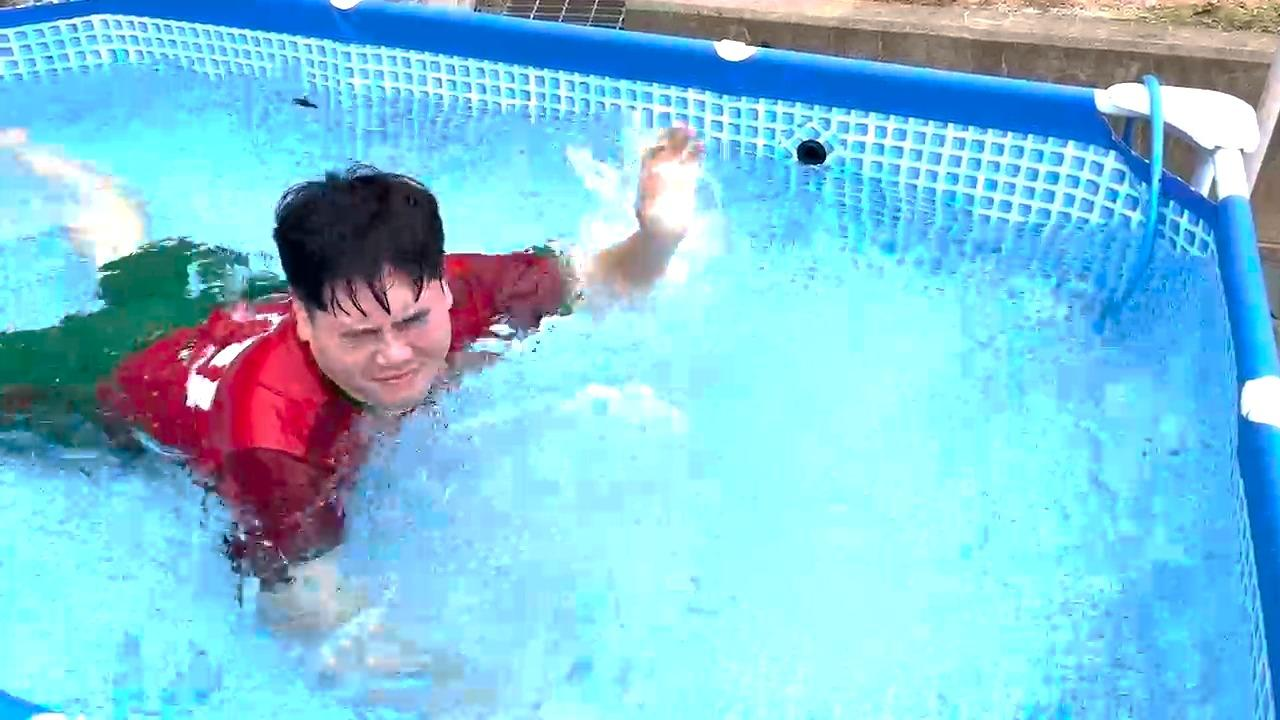Drowning: (0, 63, 742, 651)
